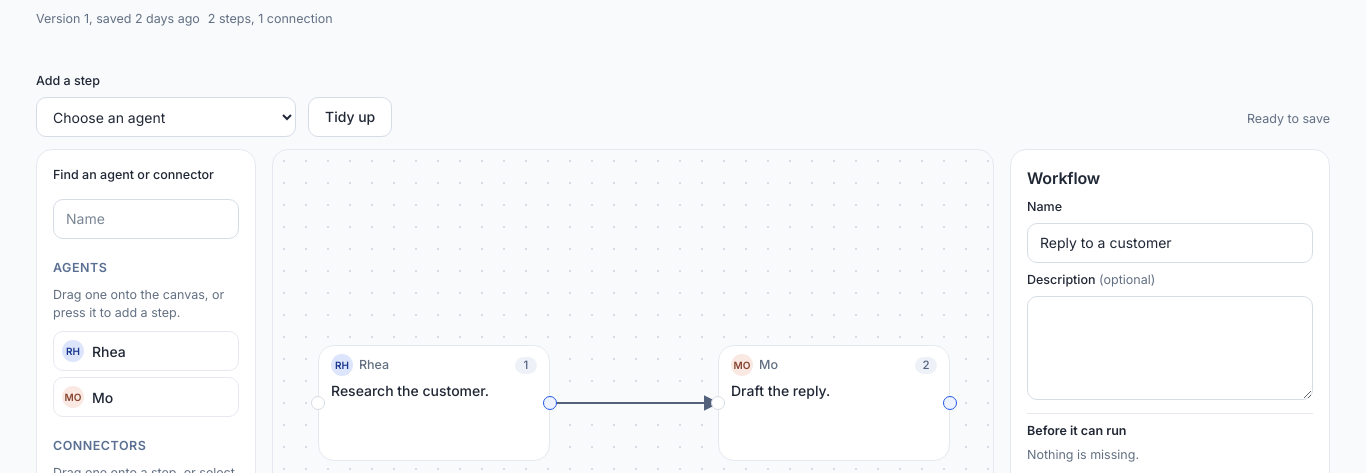
Test: Workflow editor › connects steps from the step panel, offering only connections that make no loop
Check: the button with aria-label "Step 1:" is shown, box [318,345,550,461]
Step 1. Select "Mo" in the dropdown labelled "Add a step" → coordinates (166, 117), box [36,97,296,137]
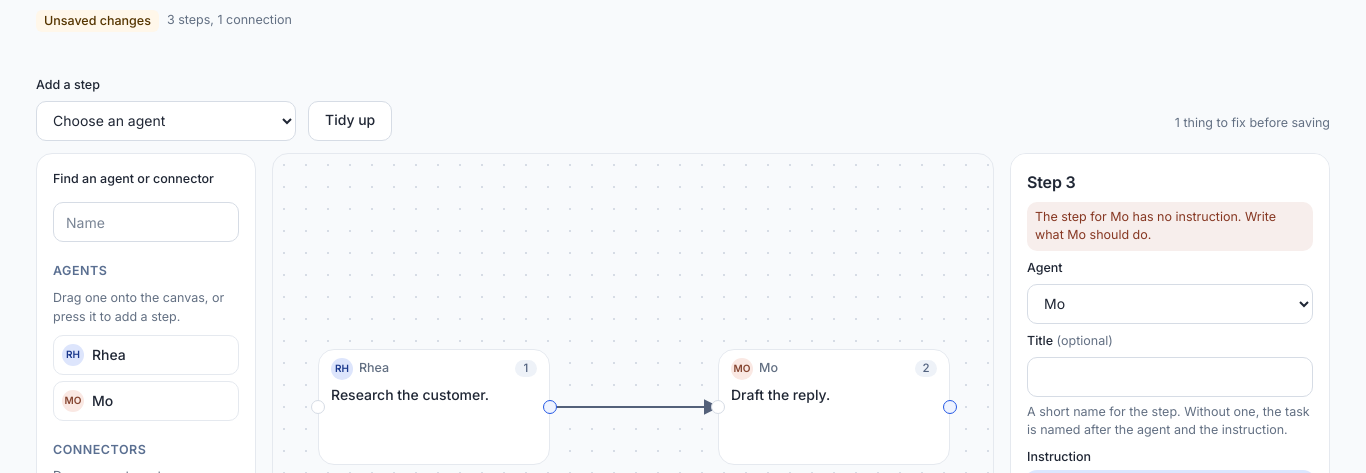
Step 2 (Draft) can hand over to the new step, but not back to step 1, which would be a loop.
Step 2. Press Enter in the button with aria-label "Step 2:", box [718,349,950,465]
(page scrolled)
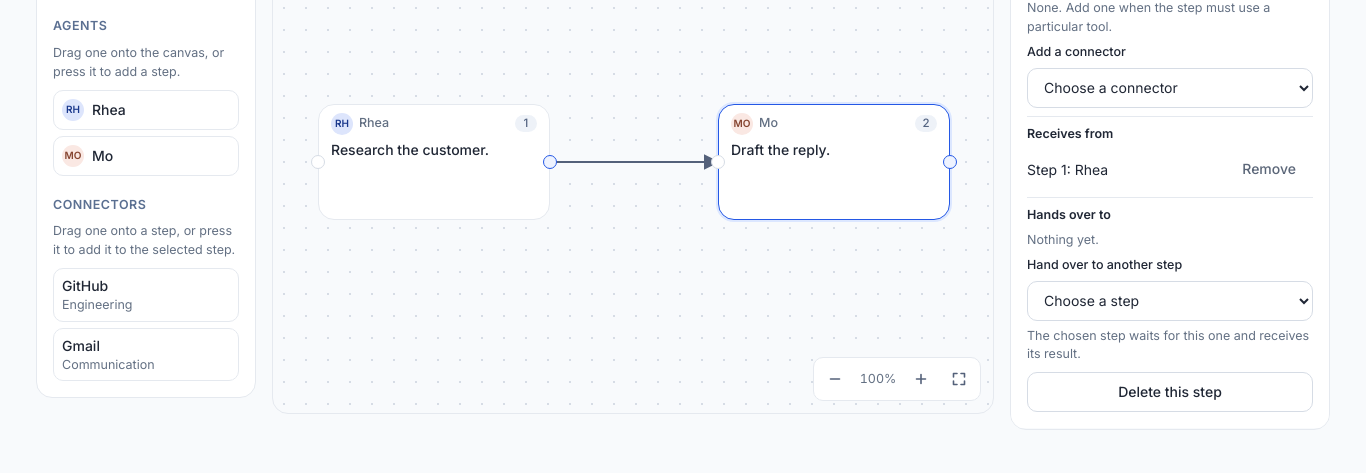
Step 3. Select "Step 3: Mo" in the dropdown labelled "Hand over to another step" → coordinates (1170, 301), box [1027,281,1313,321]
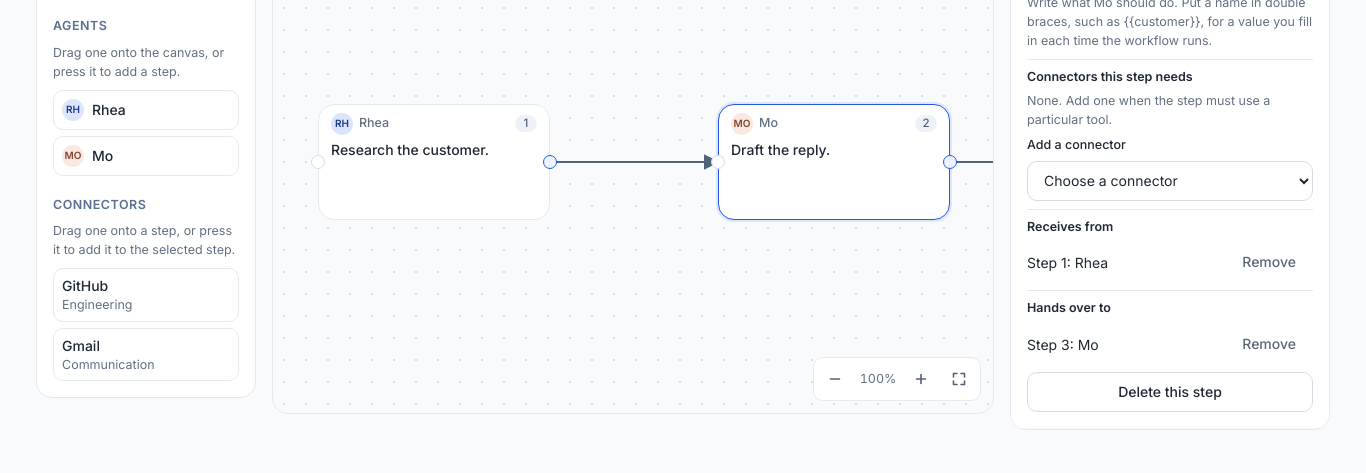
Check: the text "Step 3: Mo" is shown, box [1027,334,1099,355]
